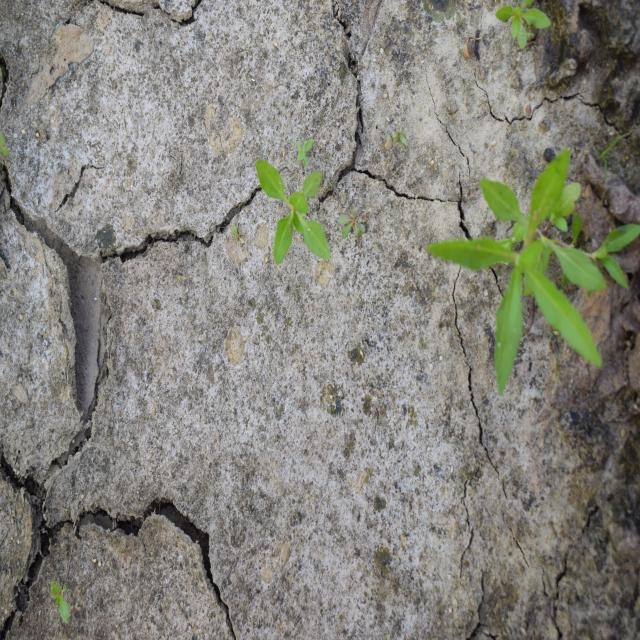Eclipta: (423, 147, 639, 397), (255, 156, 332, 266)
